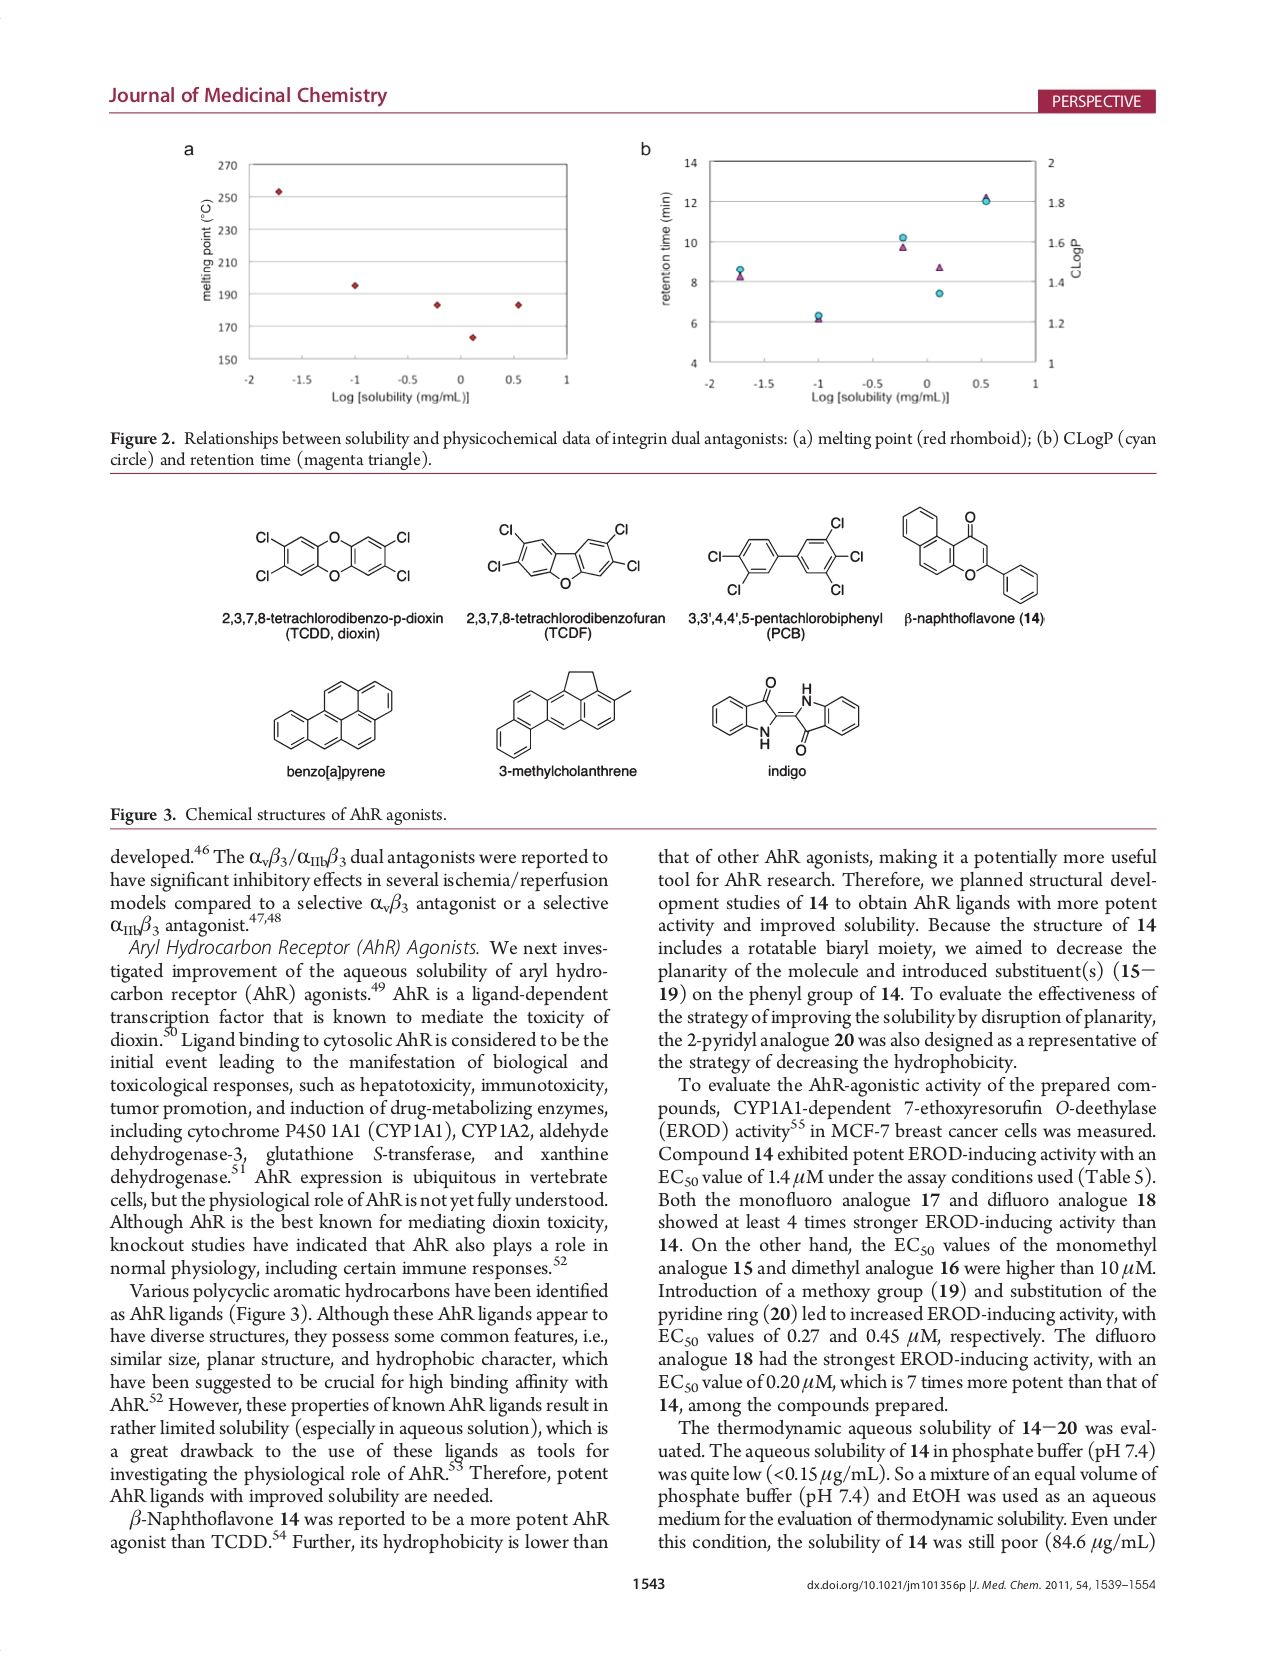exist_molecular: (892, 495, 1043, 608), (702, 509, 867, 598), (707, 666, 862, 757), (489, 665, 636, 759), (477, 513, 649, 586), (246, 521, 418, 592), (269, 676, 396, 751)
